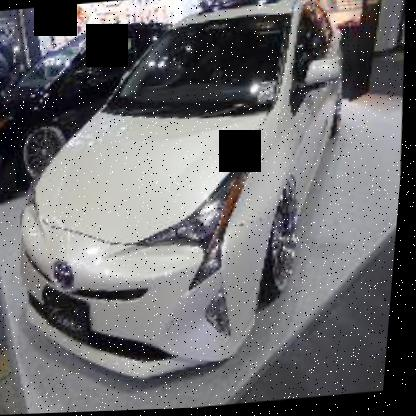not_emergency: (13, 0, 382, 364)
